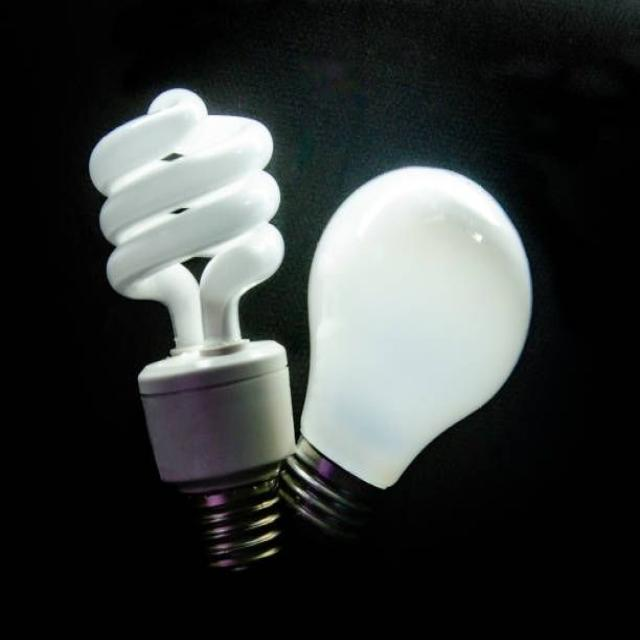electronic: (87, 84, 533, 572), (88, 86, 298, 570), (278, 162, 534, 538)
